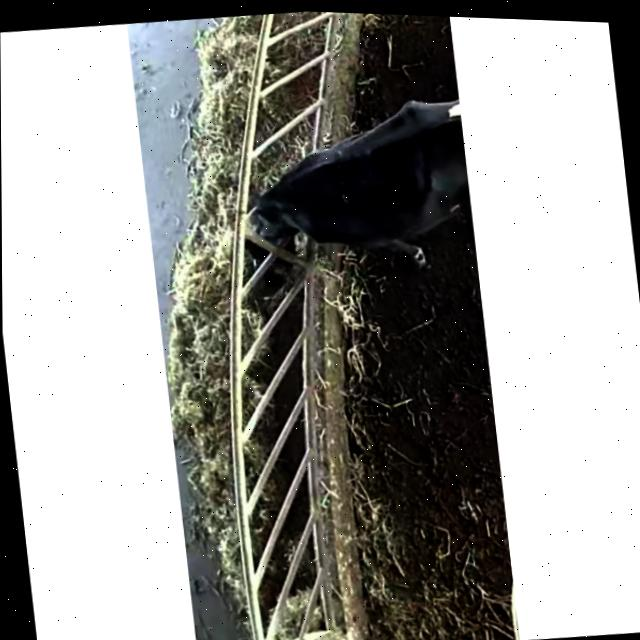eat: (174, 139, 407, 280)
